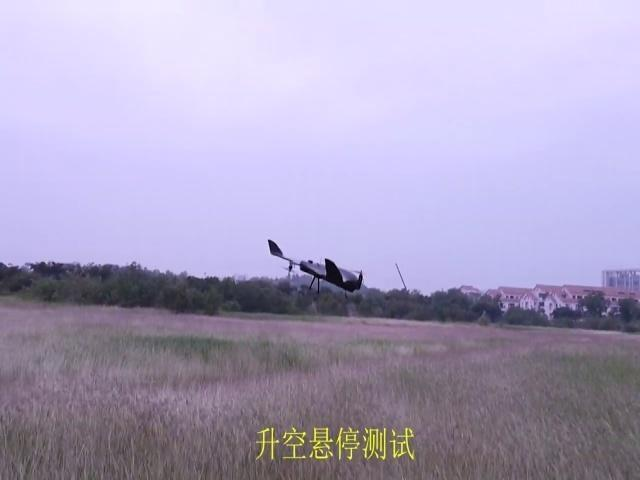Airplane: (268, 239, 365, 298)
